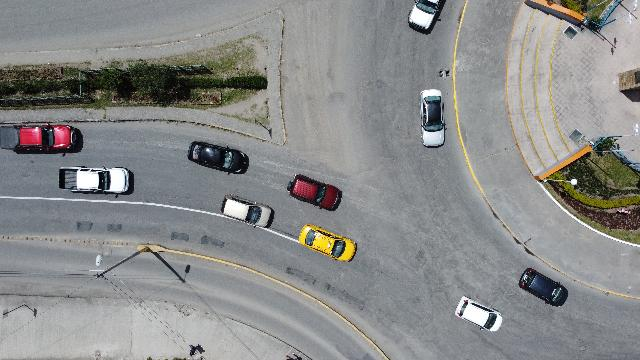Vehiculo: (0, 124, 78, 153), (299, 224, 357, 262), (59, 166, 132, 194), (286, 174, 342, 210), (518, 268, 568, 307), (188, 142, 248, 174), (220, 194, 274, 228), (456, 296, 502, 332), (420, 89, 446, 147), (408, 0, 444, 30)
